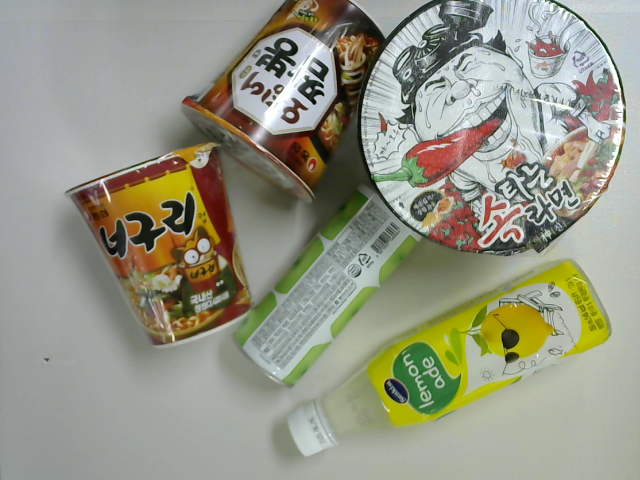Demisoda_Apple_Can_250ml: (228, 186, 423, 391)
HeJangsock: (357, 1, 625, 256)
Ojjam: (182, 1, 388, 207)
Raccoon: (64, 142, 252, 348)
Sunkist_Lemonaid_Pet: (289, 258, 611, 457)
